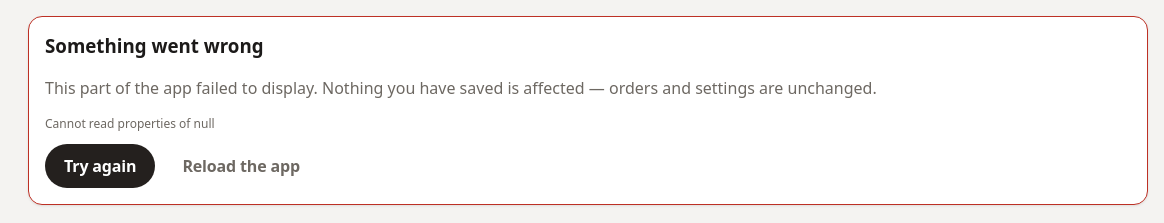
Scenario: ErrorBoundary › recovers when the cause is gone
Step 1. Click the button "Try again" → point(100, 166), box x1=45 y1=144 x2=155 y2=188
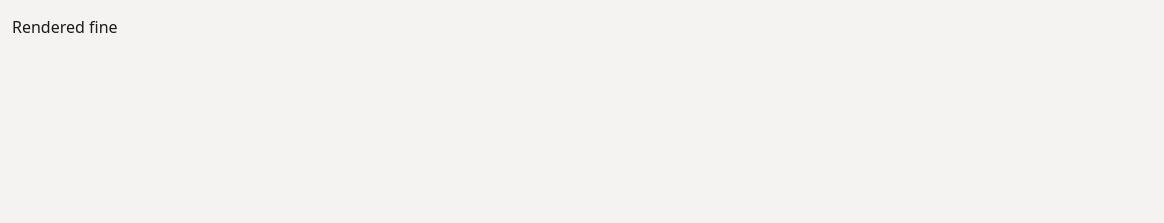
Result: the text "Rendered fine" is shown at x1=12 y1=16 x2=118 y2=38
Result: the message is gone
